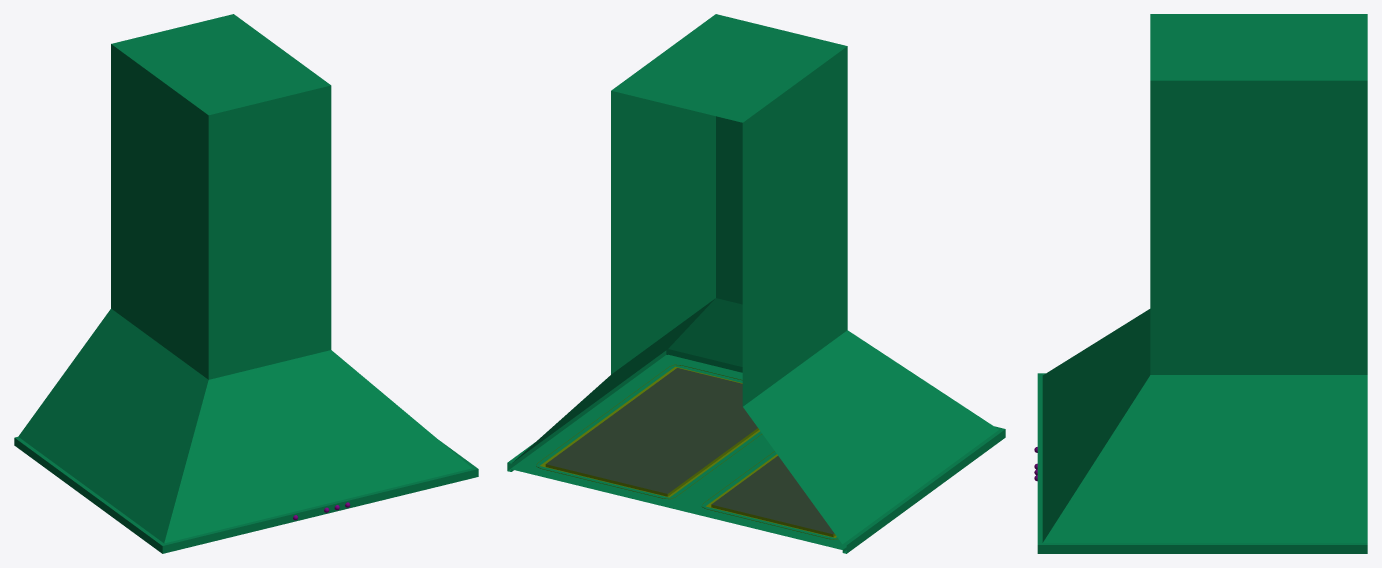
File: SM_Kitchen_Stove_Hood.fbx
3 views of the same model, side by side, from view 1: azimuth 30°, elevation 25°; view 2: azimuth 150°, elevation 25°; view 3: azimuth 270°, elevation 25° (orthographic). The views are drawn at different scales.
Parts seen in each view (by area): view 1: SM_Kitchen_Stove_Hood; view 2: SM_Kitchen_Stove_Hood; view 3: SM_Kitchen_Stove_Hood.
Boxes of the visible parts, x1,y1,x2,y2 form: SM_Kitchen_Stove_Hood: (14, 14, 478, 553); SM_Kitchen_Stove_Hood: (507, 14, 1005, 553); SM_Kitchen_Stove_Hood: (1034, 14, 1367, 553).
Bounding box in the file's own units: 125 × 143 × 103.
